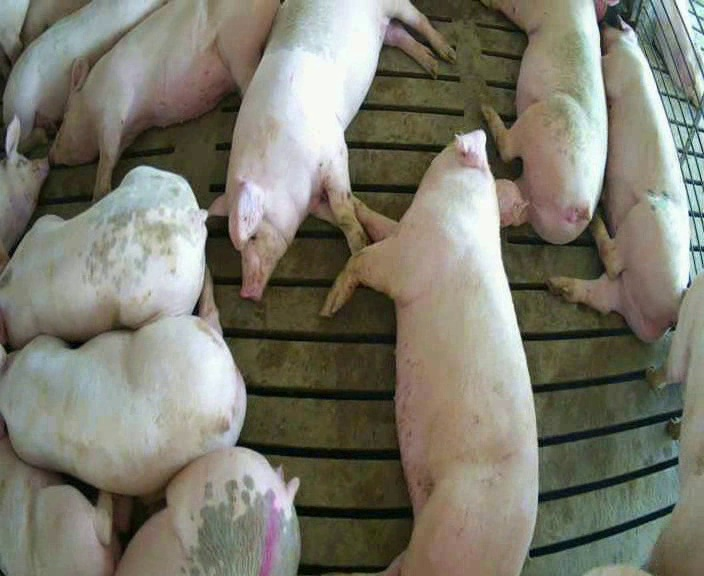pig: (321, 130, 534, 573), (211, 2, 454, 299), (0, 266, 245, 494), (547, 22, 688, 341), (49, 2, 277, 198), (0, 166, 206, 347), (483, 2, 606, 243), (3, 2, 162, 152), (116, 447, 299, 574), (646, 273, 703, 574), (0, 116, 48, 270)
